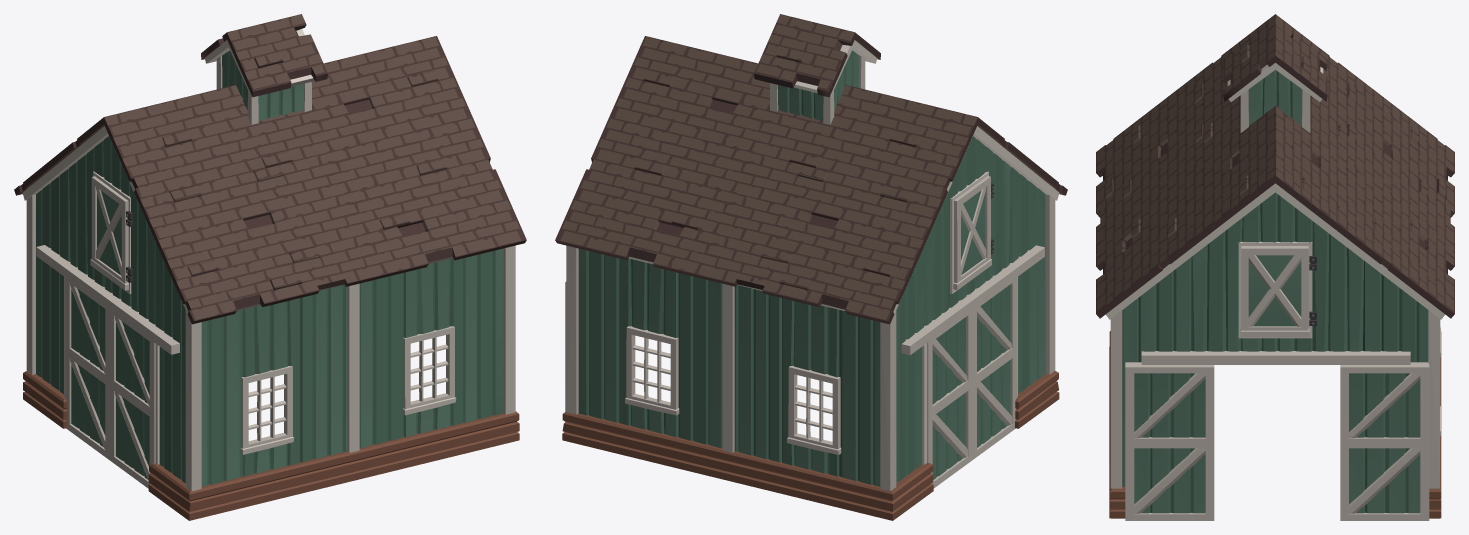
The model's file is Barn 2.fbx.
3 views of the same model, side by side, from view 1: azimuth 30°, elevation 25°; view 2: azimuth 150°, elevation 25°; view 3: azimuth 270°, elevation 25° (orthographic).
Visible parts, largest first — view 1: Barn_2; view 2: Barn_2; view 3: Barn_2.
Part boxes in pixels (x1,y1,x2,y2): Barn_2: (14,14,526,520); Barn_2: (555,14,1067,520); Barn_2: (1096,14,1454,520).
Bounding box in the file's own units: 801 × 911 × 744.
